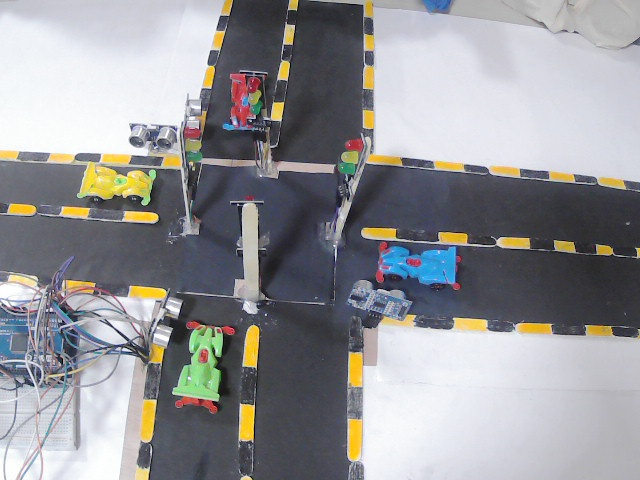car: (362, 237, 483, 294), (187, 310, 232, 421), (70, 165, 149, 204), (221, 71, 254, 134)
traffic_light: (245, 74, 277, 154), (181, 119, 213, 183), (342, 133, 363, 216), (229, 194, 266, 229)
uno_breadboard: (0, 285, 95, 470), (341, 275, 425, 327), (133, 291, 187, 359), (127, 113, 176, 160), (175, 91, 205, 135)
